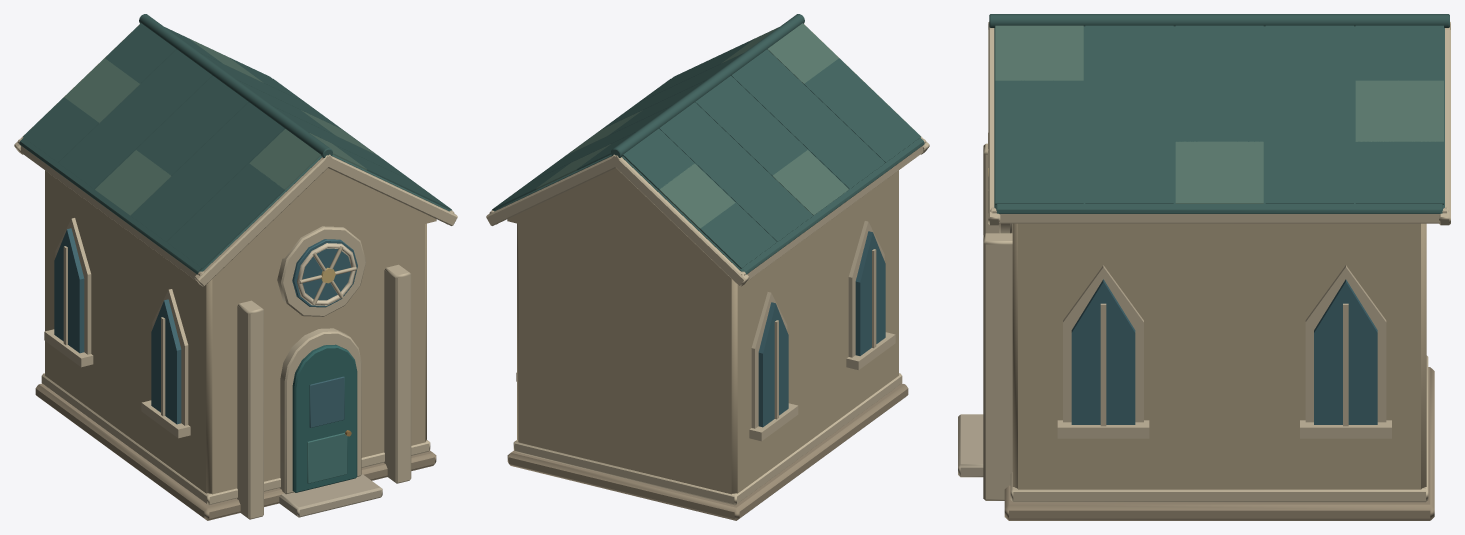
File: cathedral_level_1.glb
3 renders of one model, left to right at view 1: azimuth 30°, elevation 25°; view 2: azimuth 150°, elevation 25°; view 3: azimuth 270°, elevation 25°, orthographic. The views are drawn at different scales.
Visible parts, largest first — view 1: cathedral_level_1_runtime; view 2: cathedral_level_1_runtime; view 3: cathedral_level_1_runtime.
Boxes of the visible parts, bbox=[...] form: cathedral_level_1_runtime: bbox=[14, 14, 457, 520]; cathedral_level_1_runtime: bbox=[486, 14, 929, 520]; cathedral_level_1_runtime: bbox=[958, 14, 1450, 520].
Bounding box in the file's own units: 3.71 × 4.78 × 4.88.
